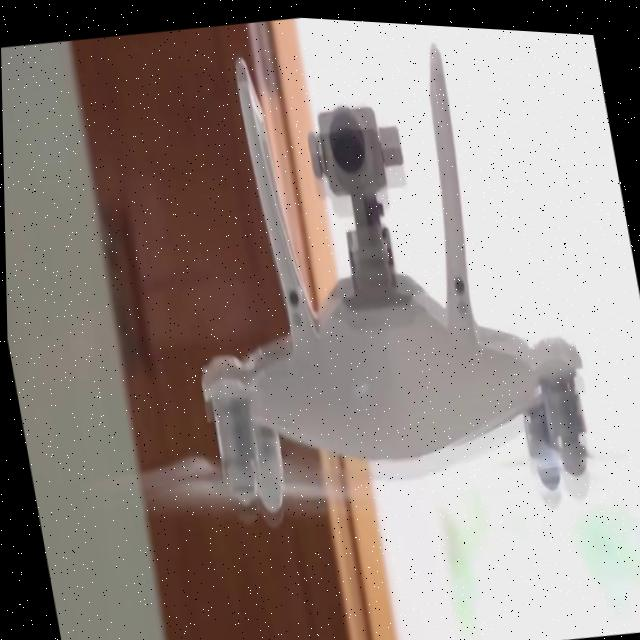drones: (0, 0, 640, 591)
